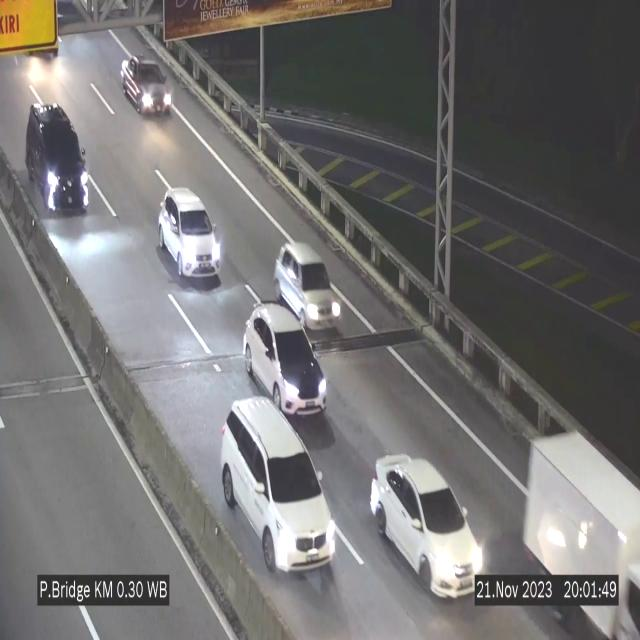Car: (220, 400, 336, 576), (371, 455, 486, 597), (244, 302, 326, 415), (21, 101, 91, 215), (274, 242, 341, 332), (158, 189, 224, 279), (120, 58, 172, 114)
Truck: (514, 418, 640, 640)
